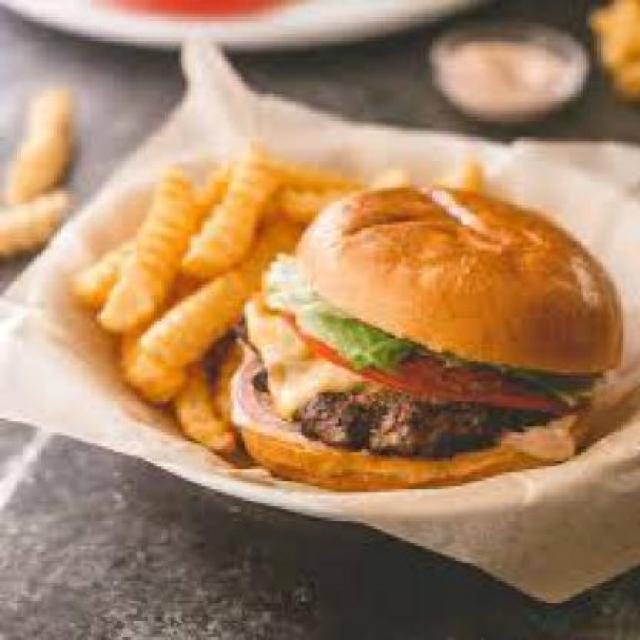french fries: (94, 145, 255, 444)
hamburger: (231, 173, 623, 484)
